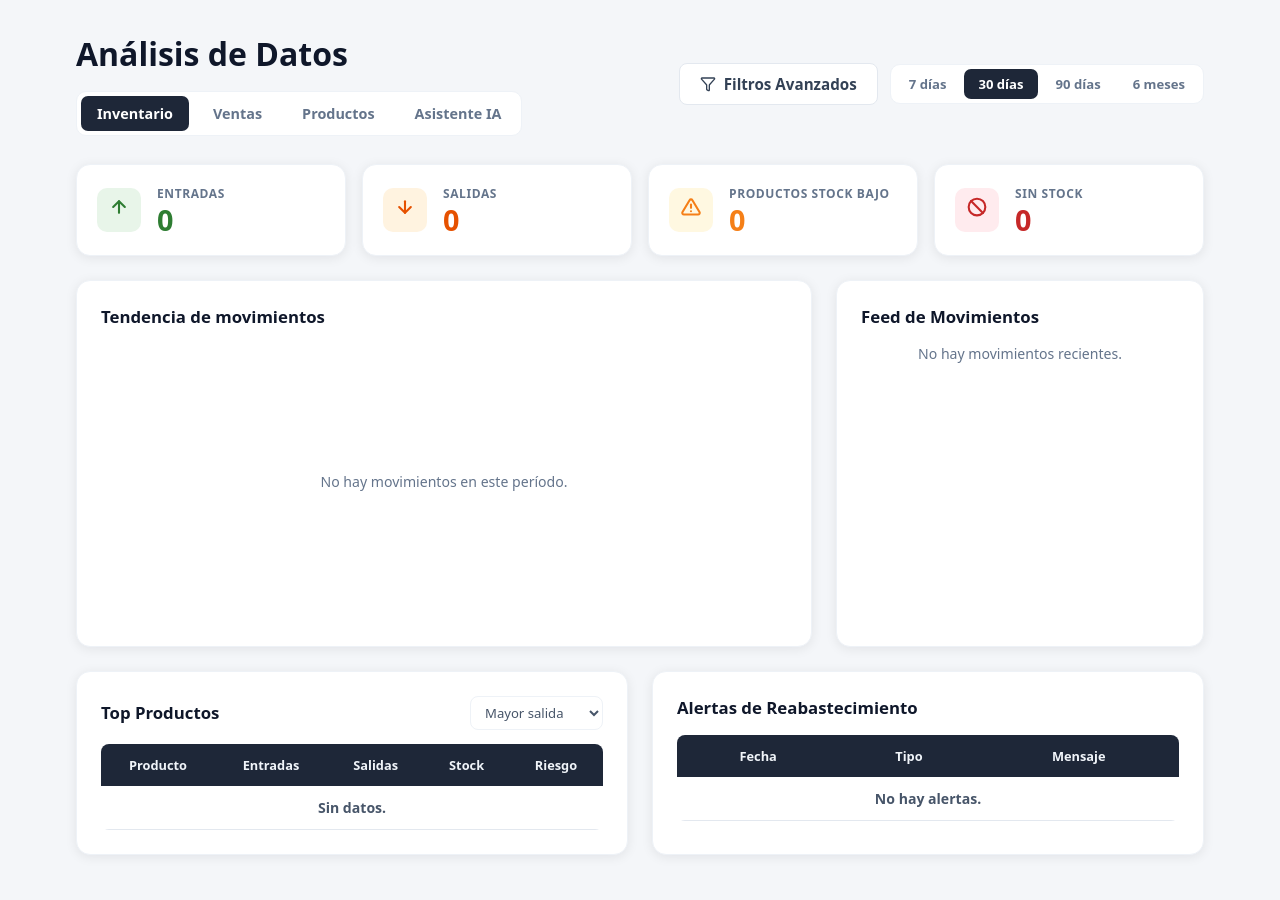
Test: AnalyticsView › estados vacíos › muestra estado vacío cuando no existe stock muerto
Click the button with class "tab-btn" showing "Productos".
click(338, 114)  # box [286,96,391,131]
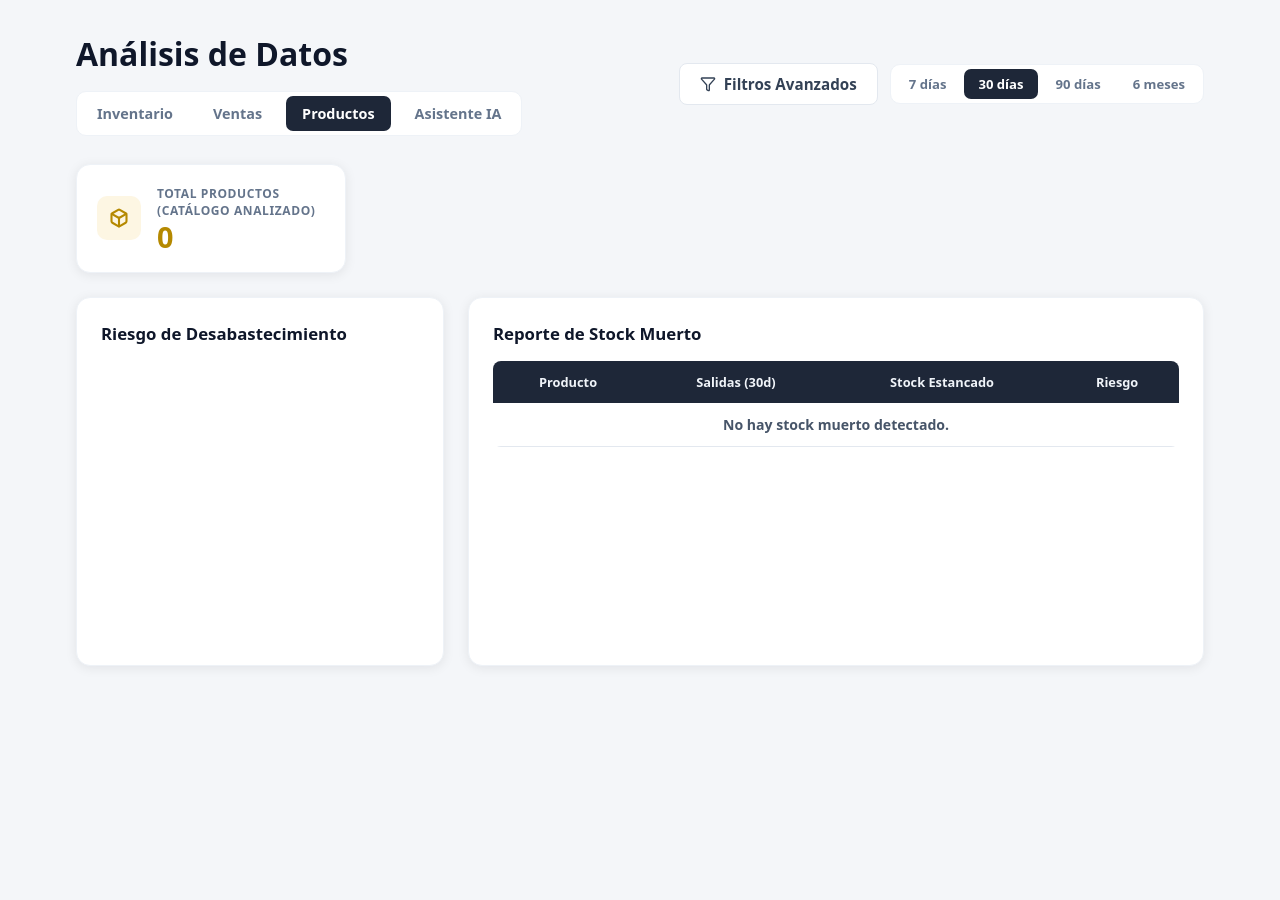
Check: the text "No hay stock muerto detectado." is shown, box [493,403,1179,446]
